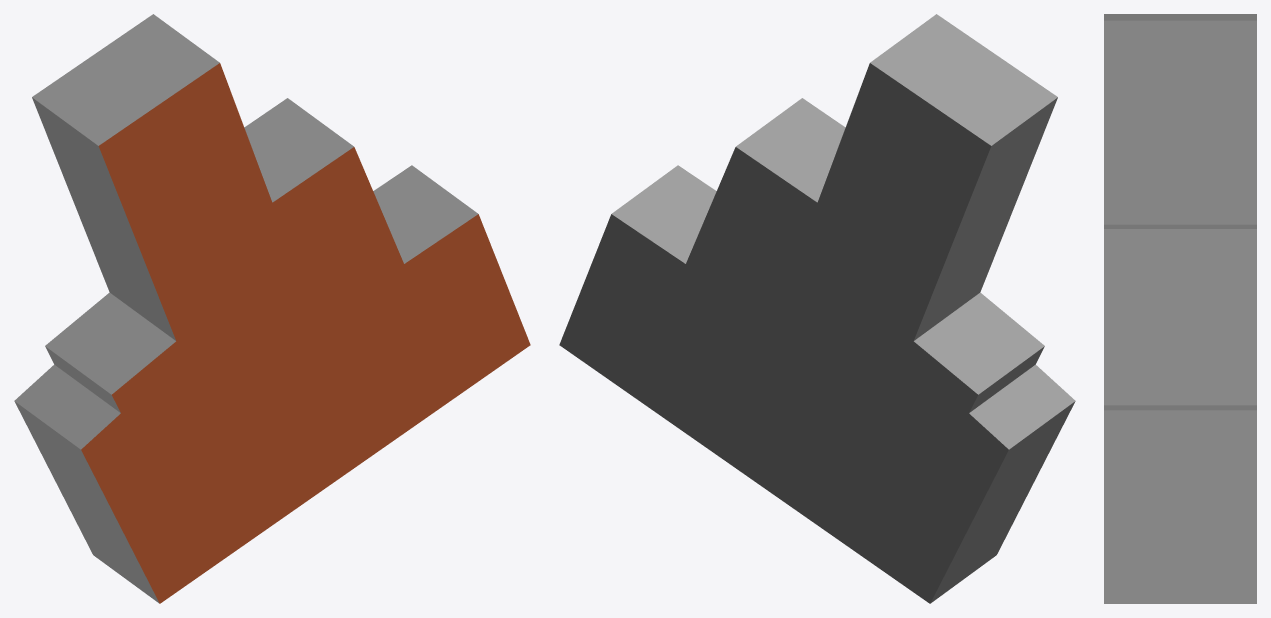
The model's file is construction_3741_assumed_A_Casa_h6m.obj.
3 renders of one model, left to right at view 1: azimuth 30°, elevation 25°; view 2: azimuth 150°, elevation 25°; view 3: azimuth 270°, elevation 25°, orthographic. The views are drawn at different scales.
Parts seen in each view (by area): view 1: construction_3741_assumed_A_Casa; view 2: construction_3741_assumed_A_Casa; view 3: construction_3741_assumed_A_Casa.
Boxes of the visible parts, x1=… form: construction_3741_assumed_A_Casa: x1=14, y1=14, x2=530, y2=603; construction_3741_assumed_A_Casa: x1=559, y1=14, x2=1075, y2=603; construction_3741_assumed_A_Casa: x1=1104, y1=14, x2=1256, y2=603.
Bounding box in the file's own units: 23.35 × 26.12 × 6.
